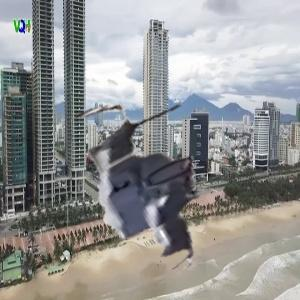drone: (37, 92, 237, 292)
